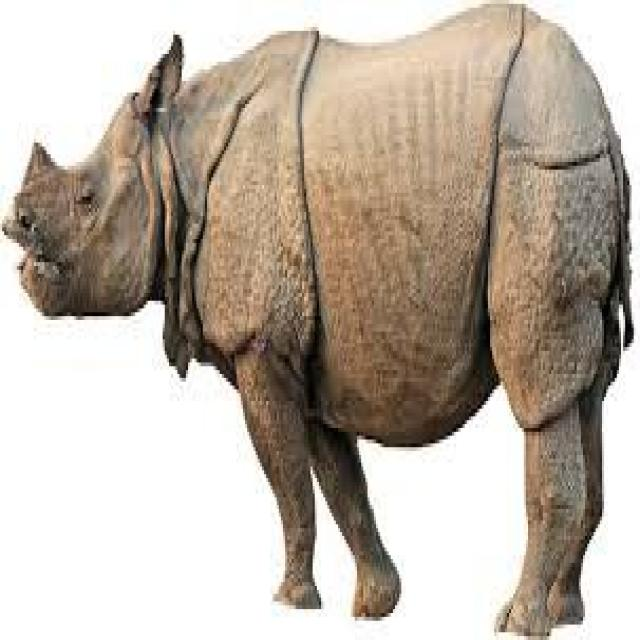rhinoceros: (4, 4, 632, 628)
